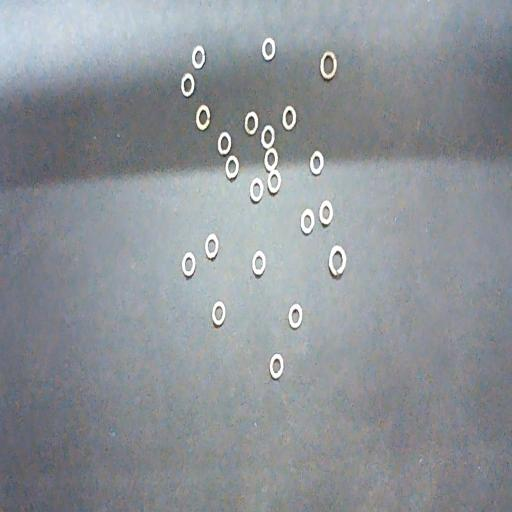washer: (328, 245, 347, 278), (320, 52, 338, 81), (268, 353, 284, 381), (195, 104, 211, 131), (249, 177, 264, 204), (319, 200, 334, 227), (300, 209, 315, 236), (181, 251, 196, 278), (288, 303, 303, 330), (252, 250, 266, 278), (212, 300, 226, 328), (204, 234, 219, 260), (192, 44, 206, 70), (225, 155, 239, 181), (310, 150, 324, 176), (264, 148, 279, 172), (180, 73, 194, 98), (244, 111, 258, 136), (282, 106, 296, 131), (218, 131, 232, 156), (268, 170, 282, 195), (262, 38, 276, 62), (261, 125, 275, 149)
